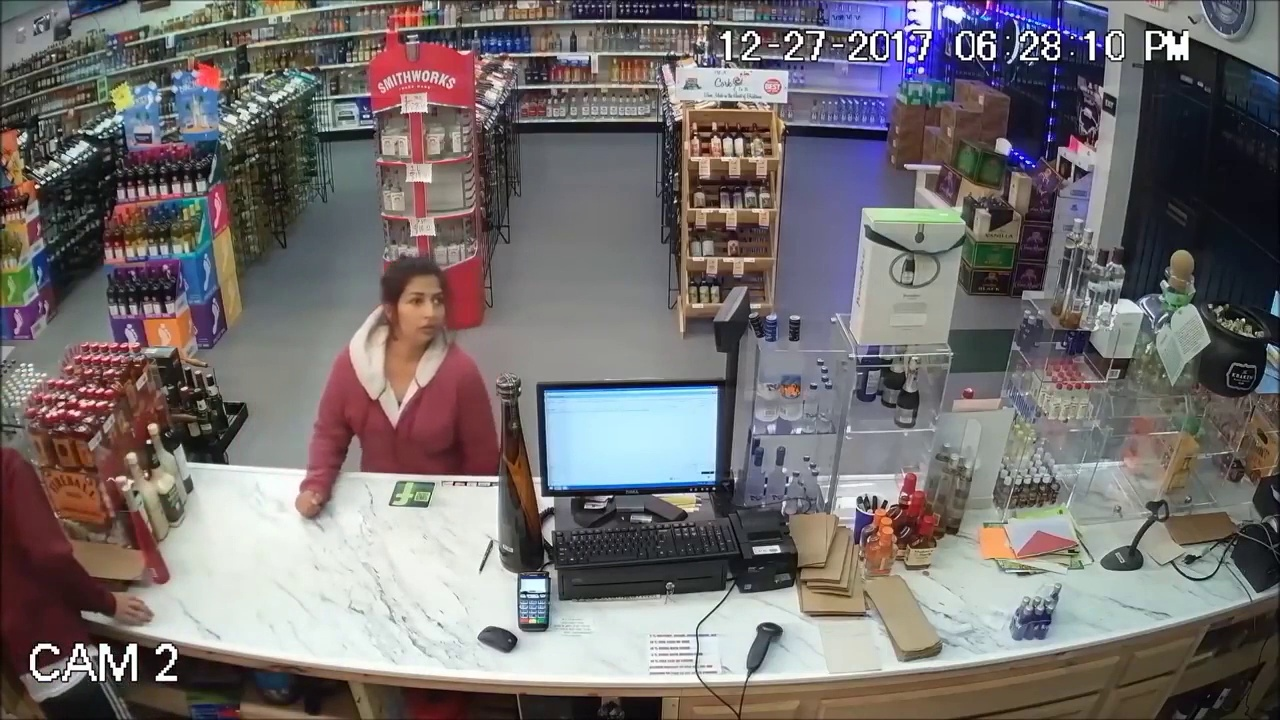face: (394, 280, 446, 347)
